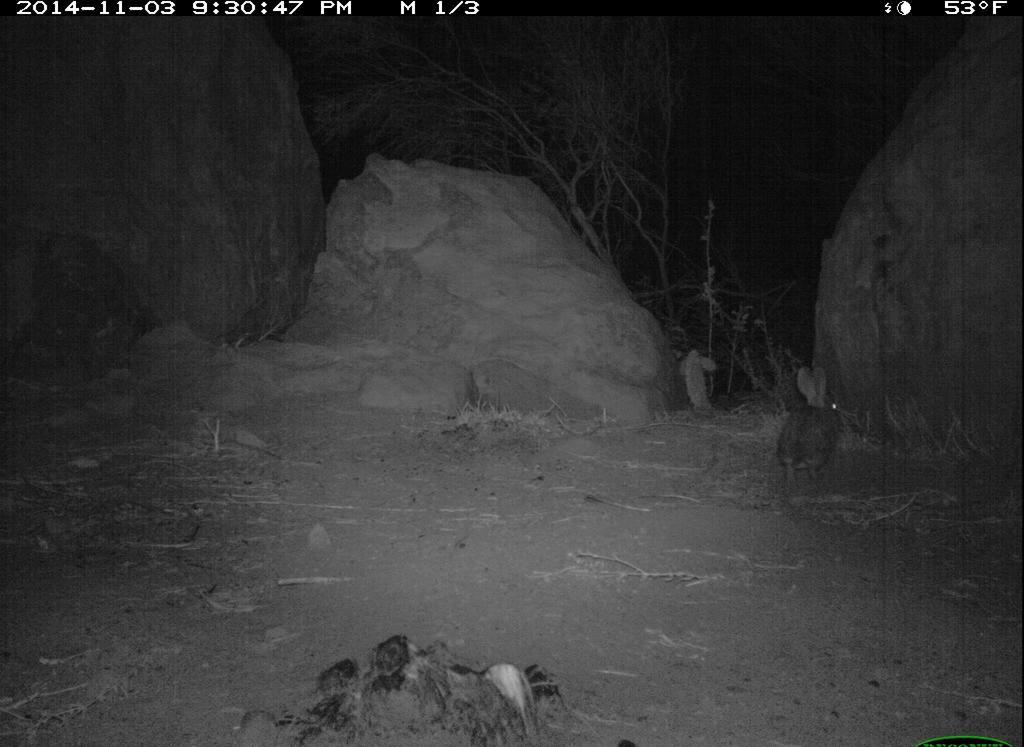rabbit: (770, 359, 852, 507)
